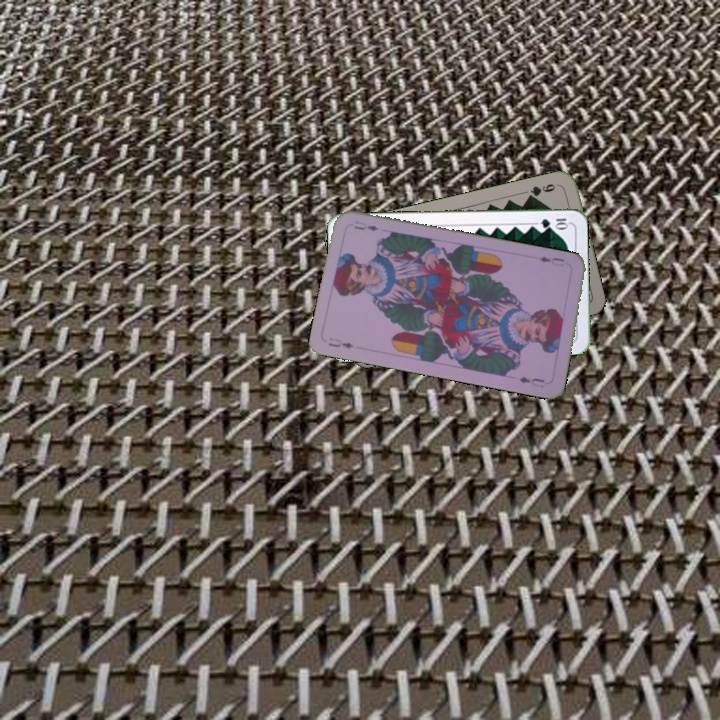EU: (535, 252, 567, 269), (324, 334, 356, 351)
G10: (536, 214, 571, 230)
G9: (523, 180, 562, 201)
